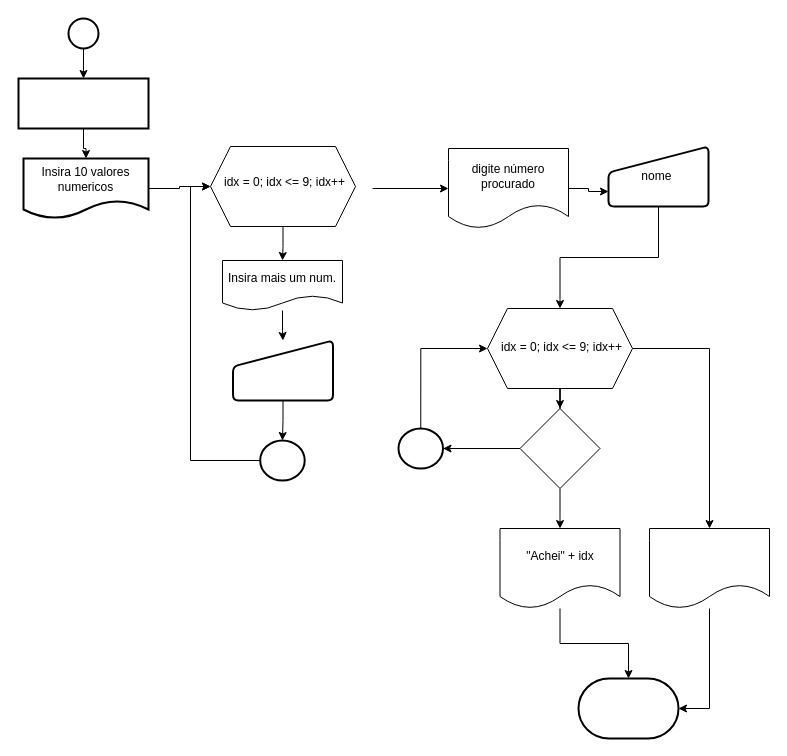
Image size: 787x756. Some labels were removed from this diagram. Here are the shapes that lost their labels. From the top down, the centre of each, then its label:
point 83,103: inteiro nome = 0 inteiro nomes[10]
point 283,370: nomes [idx]
point 559,448: nomes[idx]= nome
point 709,568: "Não encontrado" nome
